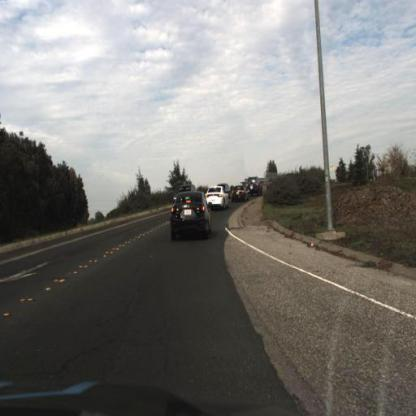car: (169, 191, 214, 242), (206, 183, 231, 210), (246, 172, 264, 199), (231, 185, 247, 207)
